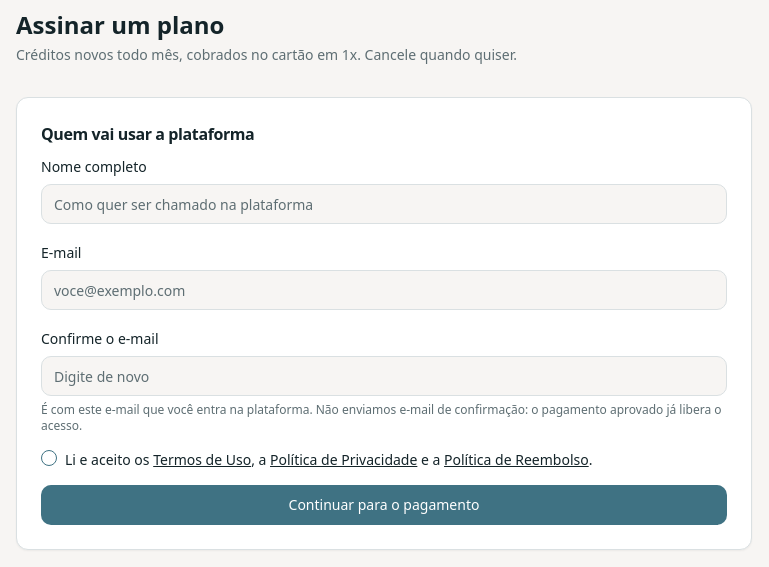
Test: SubscribePage (anonymous funnel) › lets the buyer go back and fix the account
Type "Nova Pessoa" into the field labelled "Nome completo" at (384, 204), box [41,184,727,224]
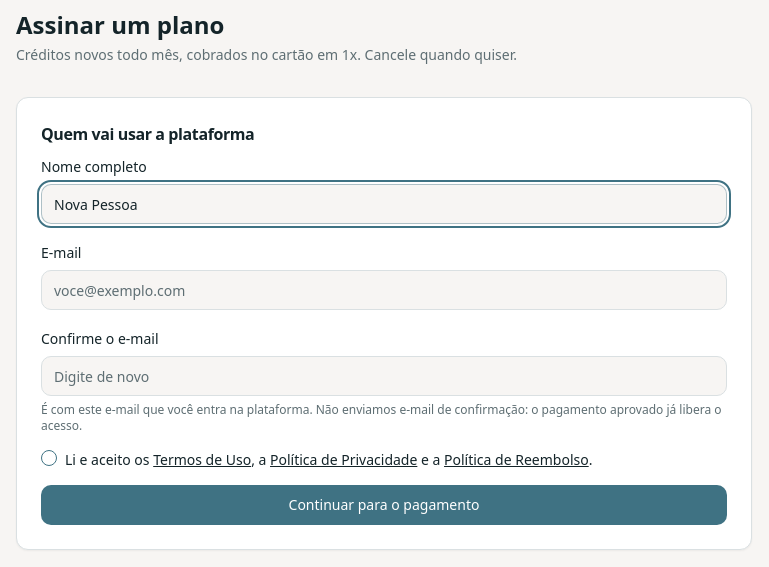
Type "nova@example.com" into the field labelled "E-mail" at (384, 290), box [41,270,727,310]
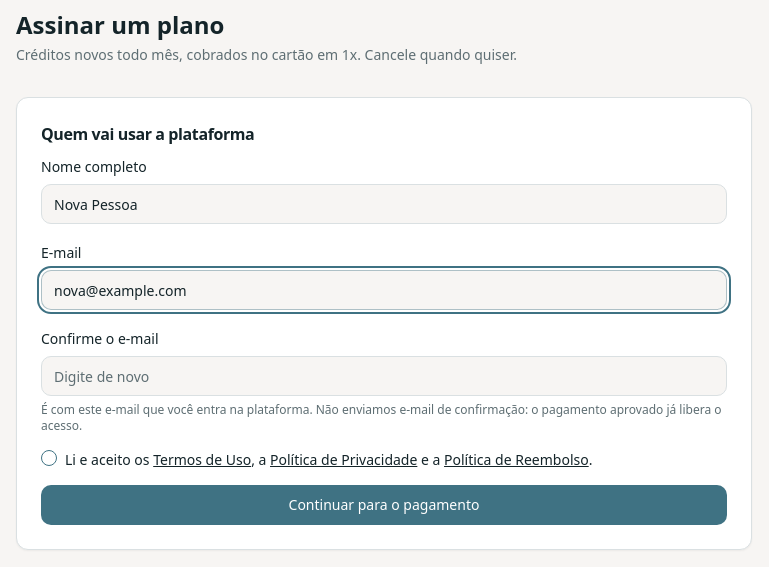
Type "nova@example.com" into the field labelled "Confirme o e-mail" at (384, 376), box [41,356,727,396]
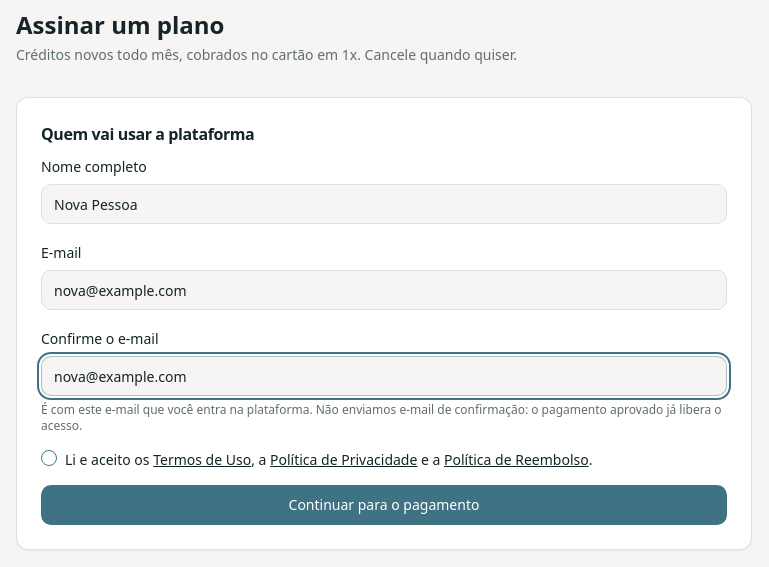
Click the checkbox at (49, 458), box [41,450,57,466]
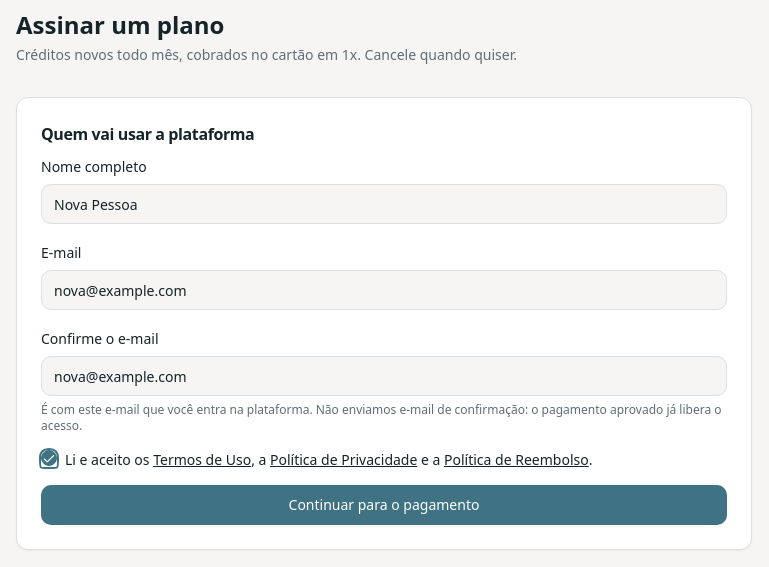
Click the button "Continuar para o pagamento" at (384, 505), box [41,485,727,525]
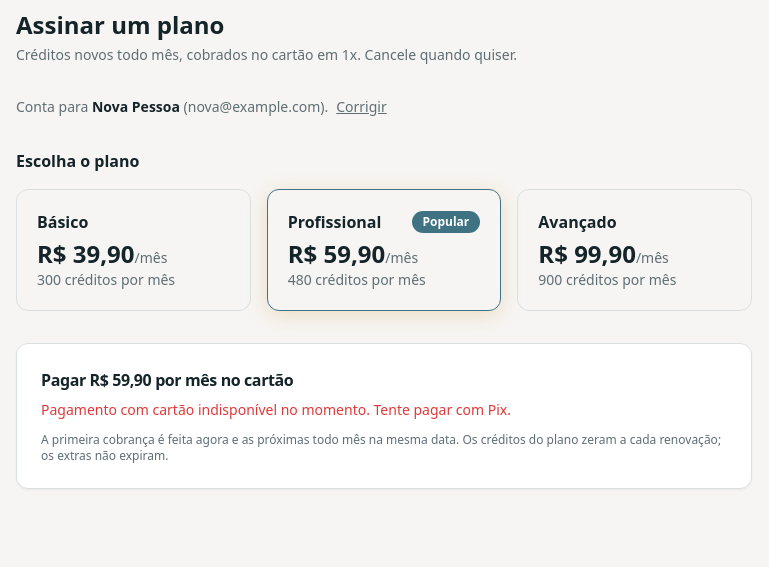
Click the button "Corrigir" at (361, 107), box [336,97,387,117]
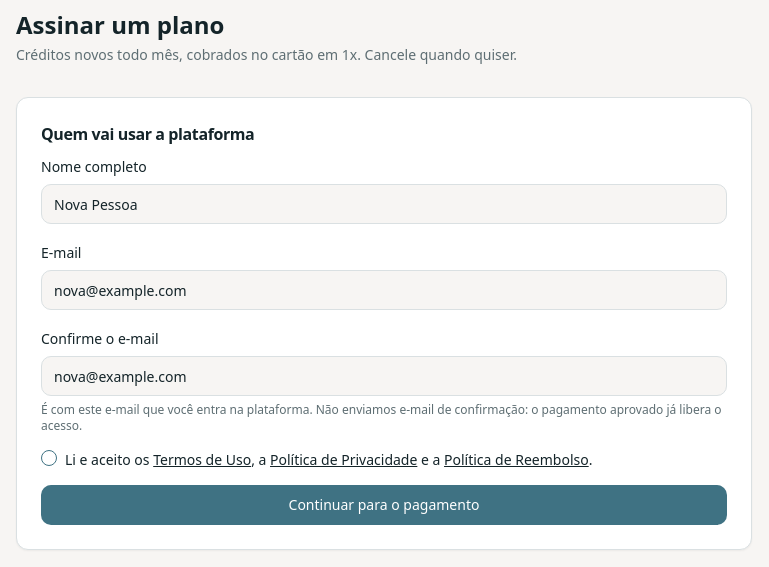
expect the field labelled "Nome completo" holds "Nova Pessoa": met, box [41,184,727,224]
